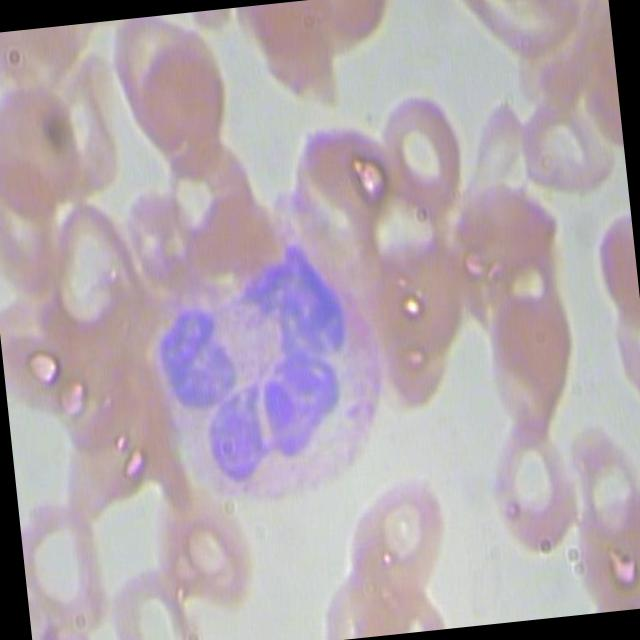RBC: (34, 191, 158, 334), (470, 288, 590, 430), (338, 469, 457, 612), (469, 420, 588, 562), (443, 165, 570, 298), (277, 112, 402, 234), (370, 82, 476, 224), (129, 22, 235, 164), (368, 217, 473, 359), (0, 283, 102, 425), (233, 0, 358, 115), (152, 477, 256, 610), (19, 497, 117, 637), (0, 74, 94, 218), (156, 124, 264, 248), (514, 80, 617, 192), (565, 408, 640, 555), (99, 562, 206, 640), (567, 506, 640, 613)
WBC: (143, 229, 400, 517)
